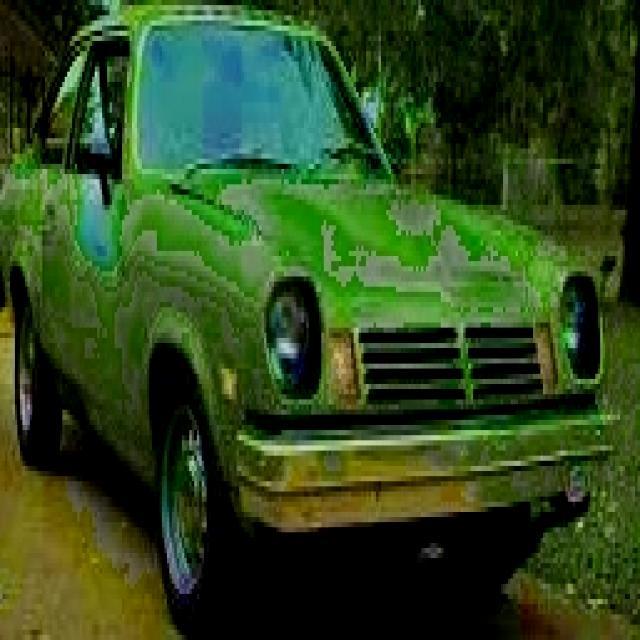green: (0, 2, 618, 560)
